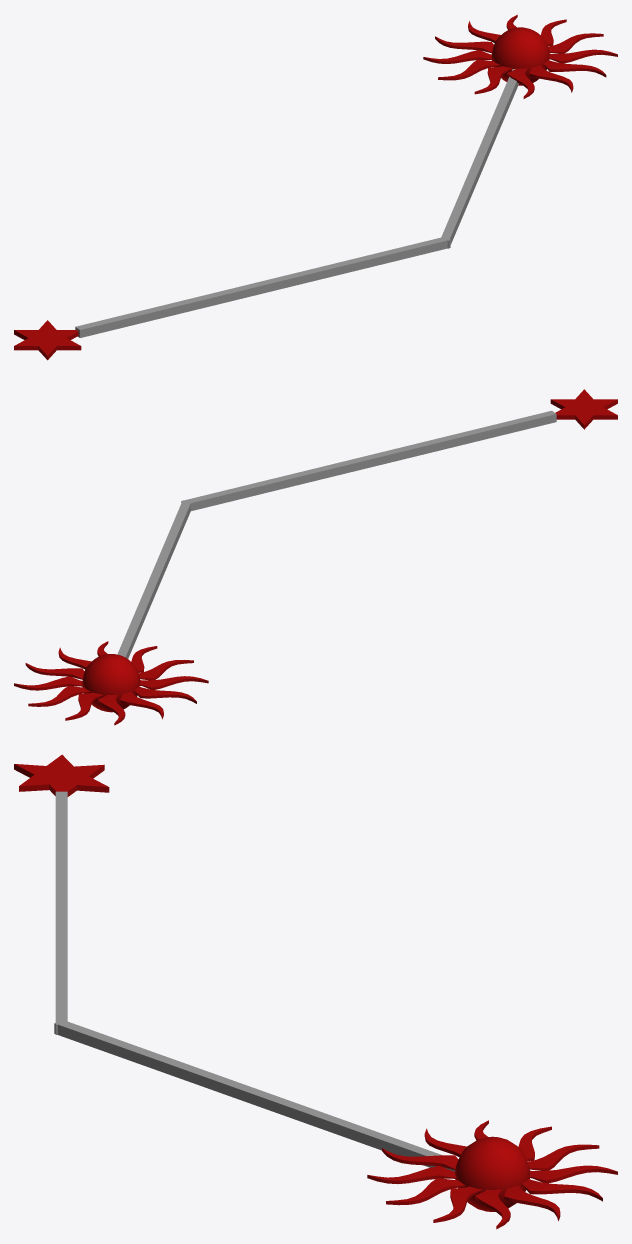
Rendered from Sun_Star_clockhand_low.fbx.
3 renders of one model, top to bottom at view 1: azimuth 30°, elevation 25°; view 2: azimuth 210°, elevation 25°; view 3: azimuth 270°, elevation 25°, orthographic. The views are drawn at different scales.
Parts seen in each view (by area): view 1: Sun_Star_clockhand_low; view 2: Sun_Star_clockhand_low; view 3: Sun_Star_clockhand_low.
Part boxes in pixels (x1,y1,x2,y2): Sun_Star_clockhand_low: (14, 14, 617, 360); Sun_Star_clockhand_low: (14, 389, 617, 725); Sun_Star_clockhand_low: (14, 754, 617, 1229).
Bounding box in the file's own units: 6.93 × 0.4635 × 3.71.
